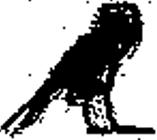Owl: (3, 2, 151, 137)
